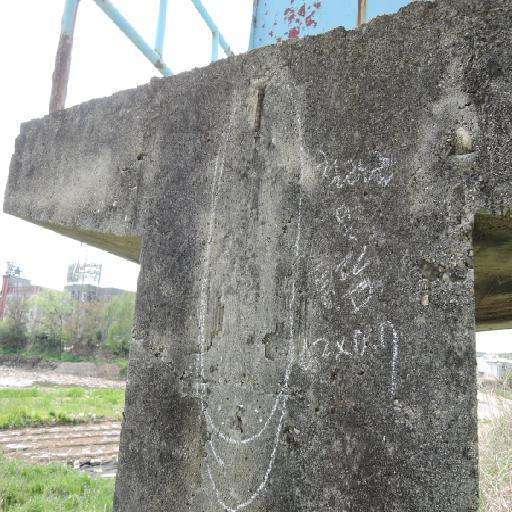exposed_rebar: (254, 87, 264, 132)
